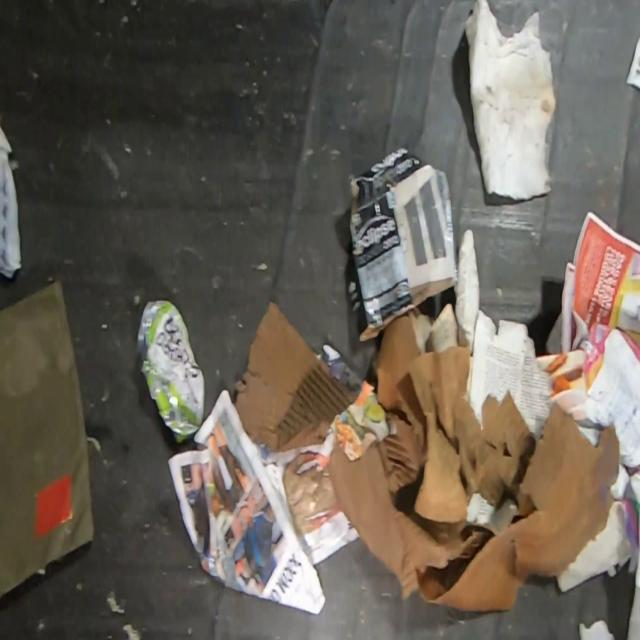cardboard: (406, 344, 536, 548), (347, 145, 458, 343), (233, 301, 357, 455)
metal: (136, 299, 206, 444)
soft_plastic: (0, 275, 94, 602)
